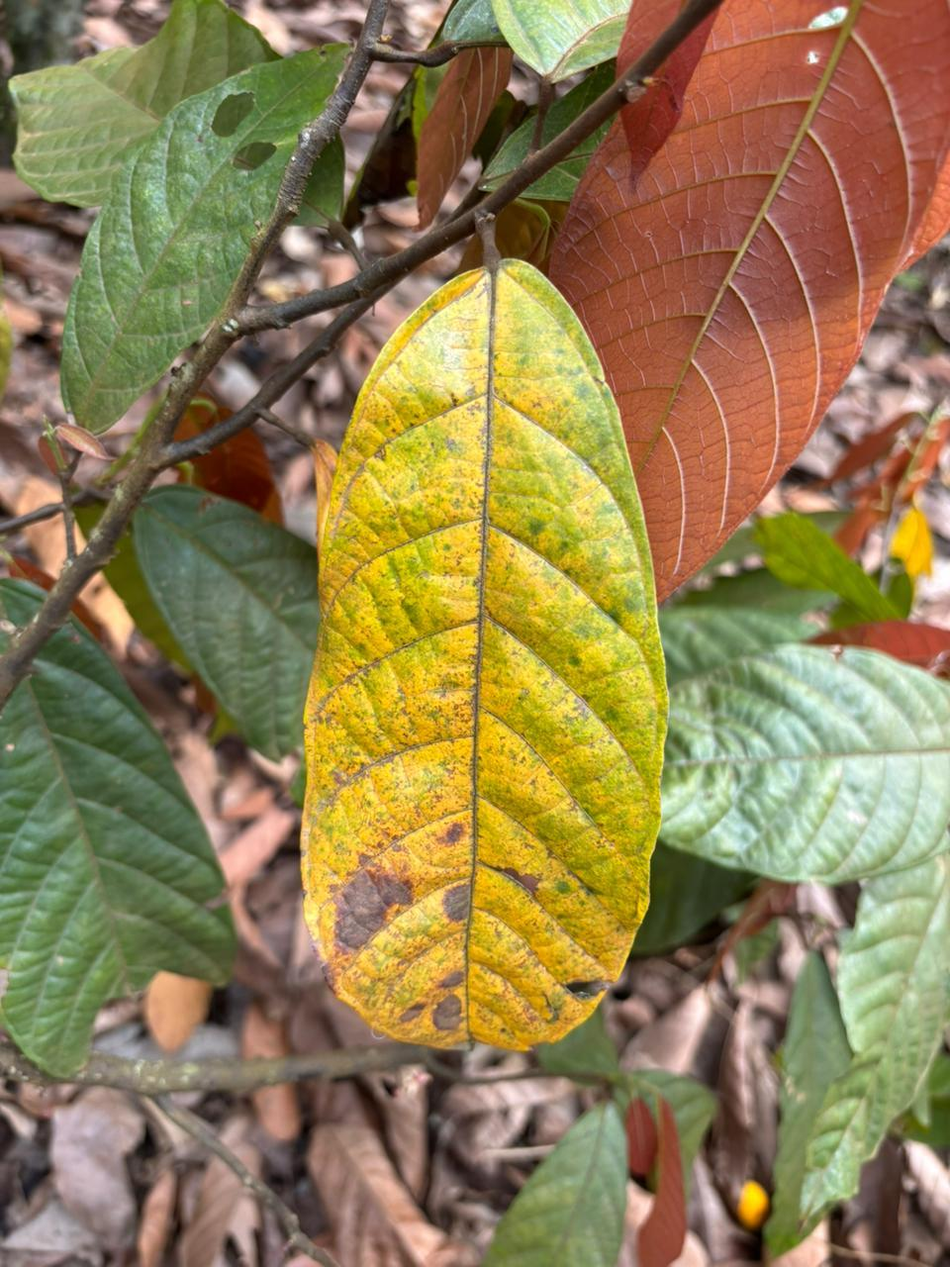deficienciia_fosforo: (302, 260, 666, 1047)
